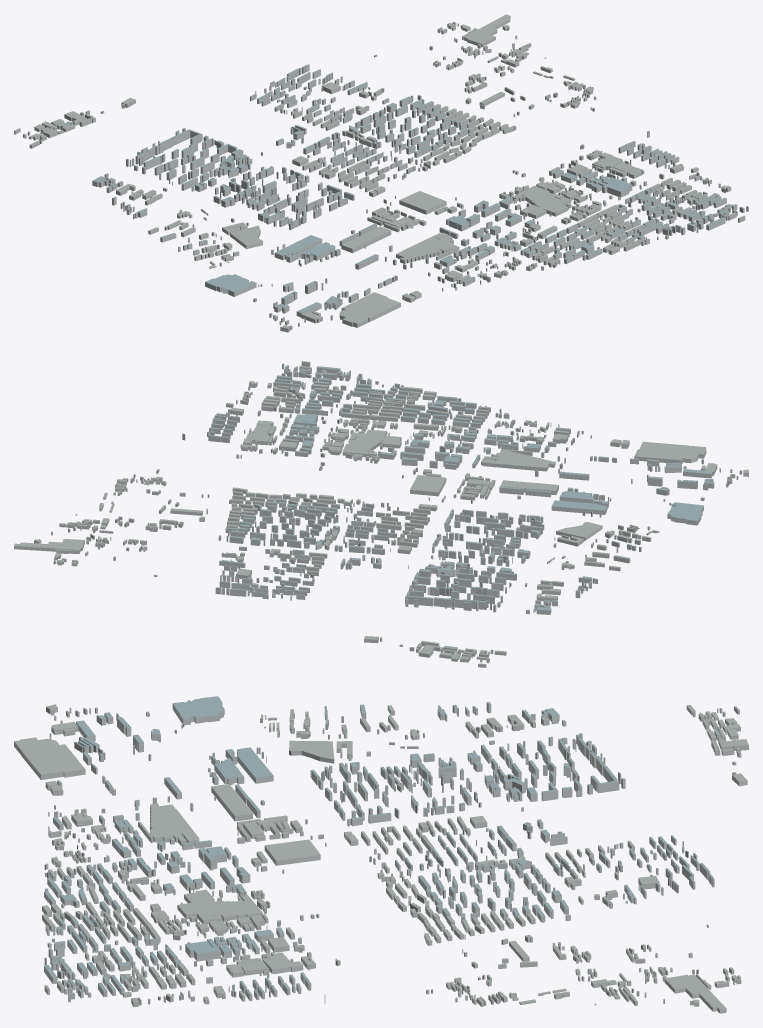
Rendered from far.glb.
3 renders of one model, top to bottom at view 1: azimuth 30°, elevation 25°; view 2: azimuth 150°, elevation 25°; view 3: azimuth 270°, elevation 25°, orthographic. The views are drawn at different scales.
Size of the model in its own units: 2226 by 34.5 by 2218.
